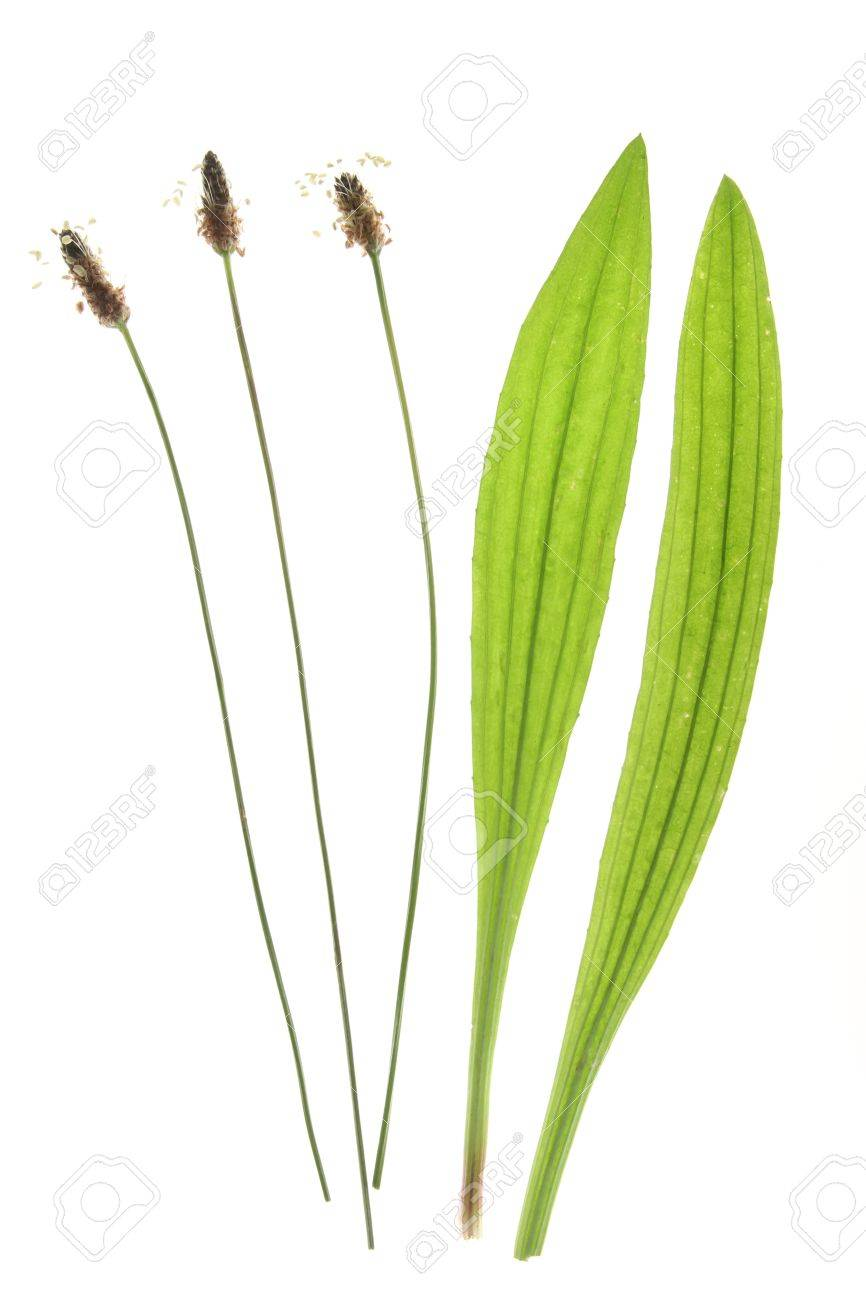buckhorn plantain: (36, 126, 735, 1150)
